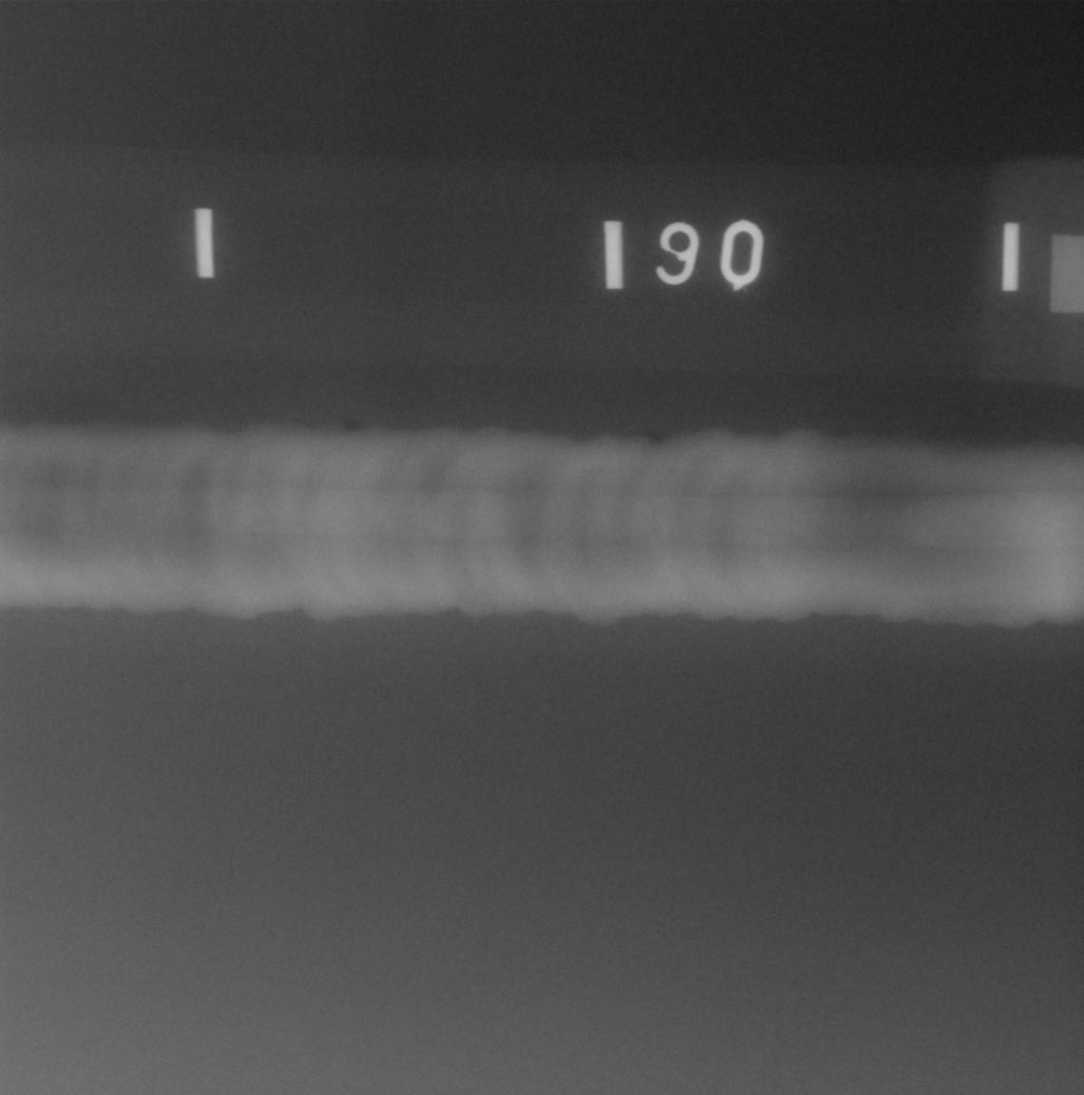Undercut: (342, 420, 362, 431), (650, 435, 662, 442)
